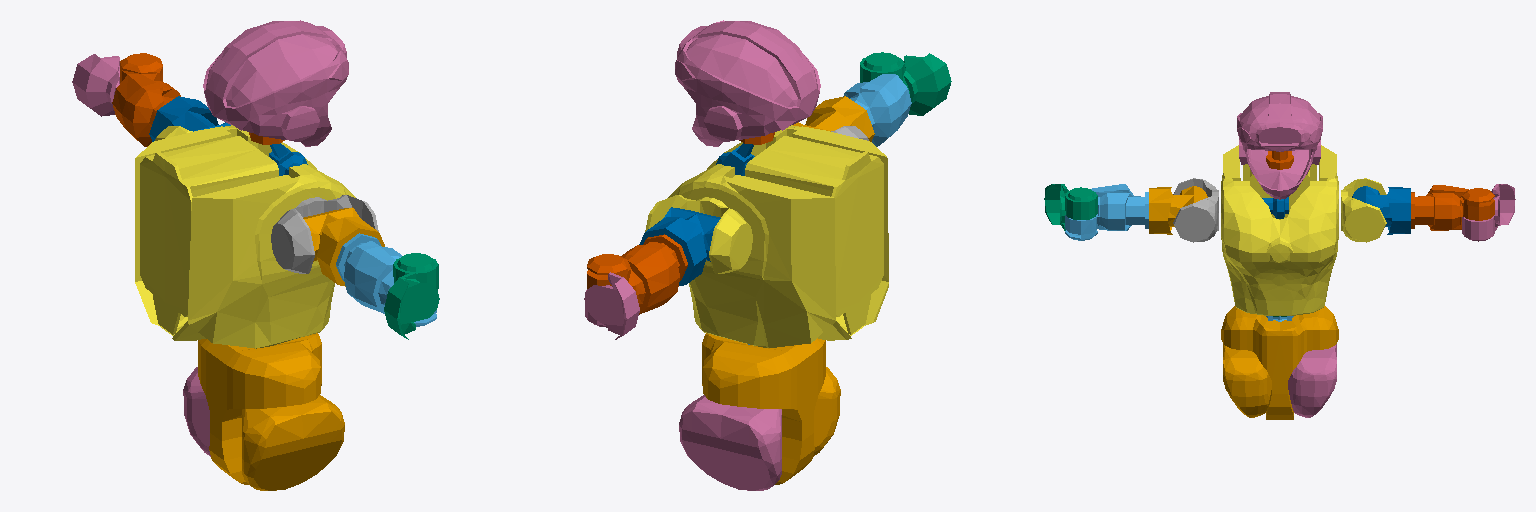
--- Render facts (derived) ---
The picture shows the robot from 3 angles, left to right: view 1: azimuth 30°, elevation 25°; view 2: azimuth 150°, elevation 25°; view 3: azimuth 270°, elevation 25°; orthographic projection.
Model valkyrie with 35 links and 34 joints (26 revolute, 8 fixed), rooted at pelvis, posed every joint at zero.
Links seen in each view (by area): view 1: torso, upperNeckPitchLink, pelvis, rightHipRollLink, leftShoulderYawLink, rightShoulderYawLink, rightElbowPitchLink, rightShoulderPitchLink, rightShoulderRollLink, leftElbowPitchLink, leftShoulderRollLink, leftHipRollLink (+1 smaller); view 2: torso, upperNeckPitchLink, pelvis, leftHipRollLink, leftShoulderYawLink, leftShoulderPitchLink, rightElbowPitchLink, rightShoulderYawLink, leftShoulderRollLink, leftElbowPitchLink, rightShoulderRollLink, rightHipRollLink (+1 smaller); view 3: torso, upperNeckPitchLink, pelvis, leftShoulderYawLink, rightShoulderYawLink, rightHipRollLink, leftHipRollLink, rightShoulderPitchLink, leftShoulderPitchLink, rightElbowPitchLink, rightShoulderRollLink, leftShoulderRollLink (+1 smaller).
Boxes of the visible links, <box> form: torso: <box>135,125,355,348</box>; upperNeckPitchLink: <box>203,20,348,146</box>; pelvis: <box>198,333,321,484</box>; rightHipRollLink: <box>242,395,344,490</box>; leftShoulderYawLink: <box>112,53,180,146</box>; rightShoulderYawLink: <box>336,233,436,326</box>; rightElbowPitchLink: <box>384,253,439,339</box>; rightShoulderPitchLink: <box>271,195,378,273</box>; rightShoulderRollLink: <box>303,207,384,286</box>; leftElbowPitchLink: <box>72,54,119,116</box>; leftShoulderRollLink: <box>149,96,230,141</box>; leftHipRollLink: <box>183,367,210,456</box>; torso: <box>668,125,888,347</box>; upperNeckPitchLink: <box>675,20,820,146</box>; pelvis: <box>702,333,825,484</box>; leftHipRollLink: <box>679,395,781,490</box>; leftShoulderYawLink: <box>587,234,687,314</box>; leftShoulderPitchLink: <box>645,195,752,273</box>; rightElbowPitchLink: <box>860,52,951,115</box>; rightShoulderYawLink: <box>843,74,911,146</box>; leftShoulderRollLink: <box>639,207,720,285</box>; leftElbowPitchLink: <box>584,272,639,339</box>; rightShoulderRollLink: <box>793,96,874,141</box>; rightHipRollLink: <box>813,367,840,456</box>; torso: <box>1221,145,1338,315</box>; upperNeckPitchLink: <box>1237,92,1322,199</box>; pelvis: <box>1221,306,1338,419</box>; leftShoulderYawLink: <box>1411,185,1494,230</box>; rightShoulderYawLink: <box>1065,184,1148,240</box>; rightHipRollLink: <box>1223,344,1271,417</box>; leftHipRollLink: <box>1288,344,1336,417</box>; rightShoulderPitchLink: <box>1173,178,1218,242</box>; leftShoulderPitchLink: <box>1341,178,1386,242</box>; rightElbowPitchLink: <box>1044,184,1097,230</box>; rightShoulderRollLink: <box>1149,186,1207,234</box>; leftShoulderRollLink: <box>1352,186,1410,234</box>.
Bounding box of the posed robot: 0.4375 × 1.38 × 1.04 m (x, y, z).
Meshes: 25 distinct files referenced, 17 mesh visuals loaded (17 Collada DAE); not drawn: 10 (reference not matched to a file when rendering).

robot.urdf — valkyrie:
<?xml version="1.0" ?>
<!-- =================================================================================== -->
<!-- |    This document was autogenerated by xacro from [local-path]/val_indigo/src/val_description/model/robots/valkyrie_B_no_hands.xacro | -->
<!-- |    EDITING THIS FILE BY HAND IS NOT RECOMMENDED                                 | -->
<!-- =================================================================================== -->
<robot name="valkyrie" xmlns:xacro="http://ros.org/wiki/xacro">
  <!--Yaw-->
  <!--pitch-->
  <!--roll-->
  <!--pitch-->
  <!--roll-->
  <!--Yaw-->
  <!--pitch-->
  <!--roll-->
  <!--pitch-->
  <!--roll-->
  <!--Yaw-->
  <!--pitch-->
  <!--roll-->
  <!--pitch-->
  <!--roll-->
  <!--Yaw-->
  <!--pitch-->
  <!--roll-->
  <!--pitch-->
  <!--roll-->
  <link name="pelvis">
    <inertial>
      <mass value="8.22"/>
      <origin rpy="0 0 0" xyz="-0.00532 -0.003512 -0.0036"/>
      <inertia ixx="0.11866378" ixy="-0.000143482" ixz="0.003271293" iyy="0.097963425" iyz="0.002159545" izz="0.083854638"/>
    </inertial>
    <visual>
      <geometry>
        <mesh filename="package://val_description/model/meshes/pelvis/pelvis.dae"/>
      </geometry>
      <origin rpy="0.0 0.0 0.0" xyz="0.0 0.0 0.0"/>
    </visual>
    <collision>
      <geometry>
        <mesh filename="package://val_description/model/meshes/pelvis/pelvis.dae"/>
      </geometry>
      <origin rpy="0 0 0" xyz="0 0 0"/>
    </collision>
  </link>
  <link name="torsoYawLink">
    <inertial>
      <mass value="0.5"/>
      <origin rpy="0 0 0" xyz="0.000000 0.000000 -0.010000"/>
      <inertia ixx="0.000608427" ixy="-1.172e-06" ixz="1.647e-06" iyy="0.000620328" iyz="-2.33e-07" izz="0.001078108"/>
    </inertial>
    <visual>
      <geometry>
        <mesh filename="package://val_description/model/meshes/torso/torsoyaw.dae"/>
      </geometry>
      <origin rpy="0.0 0.0 0.0" xyz="0.0 0.0 0.0"/>
    </visual>
    <collision>
      <geometry>
        <mesh filename="package://val_description/model/meshes/torso/torsoyaw.dae"/>
      </geometry>
      <origin rpy="0 0 0" xyz="0 0 0"/>
    </collision>
  </link>
  <link name="torsoPitchLink">
    <inertial>
      <mass value="0.1"/>
      <origin rpy="0 0 0" xyz="0.000000 0.000000  0.005000"/>
      <inertia ixx="3.032e-05" ixy="0.0" ixz="-1.145e-06" iyy="2.1274e-05" iyz="0.0" izz="2.8285e-05"/>
    </inertial>
    <visual>
      <geometry>
        <mesh filename="package://val_description/model/meshes/torso/torsopitch.dae"/>
      </geometry>
      <origin rpy="0.0 0.0 0.0" xyz="0.0 0.0 0.0"/>
    </visual>
    <collision>
      <geometry>
        <mesh filename="package://val_description/model/meshes/torso/torsopitch.dae"/>
      </geometry>
      <origin rpy="0 0 0" xyz="0 0 0"/>
    </collision>
  </link>
  <link name="torso">
    <inertial>
      <mass value="39.47"/>
      <origin rpy="0 0 0" xyz="-0.095548 -0.003337 0.243098"/>
      <inertia ixx="0.87326933" ixy="9.9563e-05" ixz="0.061345211" iyy="1.0108485" iyz="0.00181849" izz="0.77839801"/>
    </inertial>
    <visual>
      <geometry>
        <mesh filename="package://val_description/model/meshes/torso/torso.dae"/>
      </geometry>
      <origin rpy="0.0 0.0 0.0" xyz="0.0 0.0 0.0"/>
    </visual>
    <collision>
      <geometry>
        <mesh filename="package://val_description/model/meshes/torso/torso.dae"/>
      </geometry>
      <origin rpy="0 0 0" xyz="0 0 0"/>
    </collision>
  </link>
  <joint name="torsoYaw" type="revolute">
    <origin rpy="0.0 0.0 0.0" xyz="0.0 0.0 0.0"/>
    <axis xyz="0 0 1"/>
    <parent link="pelvis"/>
    <child link="torsoYawLink"/>
    <limit effort="190" lower="-1.329" upper="1.181" velocity="5.89"/>
    <controller_gains Kd="0.0" Ki="0.0" Kp="0.0"/>
    <dynamics damping="0.1" friction="0.0"/>
  </joint>
  <gazebo reference="torsoYaw">
    <provideFeedback>1</provideFeedback>
    <implicitSpringDamper>1</implicitSpringDamper>
  </gazebo>
  <joint name="torsoPitch" type="revolute">
    <origin rpy="0.0 0.0 0.0" xyz="0.04191 0.0 0.0"/>
    <axis xyz="0 1 0"/>
    <parent link="torsoYawLink"/>
    <child link="torsoPitchLink"/>
    <limit effort="150" lower="-0.13" upper="0.666" velocity="9"/>
    <controller_gains Kd="0.0" Ki="0.0" Kp="0.0"/>
    <dynamics damping="0.1" friction="0.0"/>
  </joint>
  <gazebo reference="torsoPitch">
    <provideFeedback>1</provideFeedback>
    <implicitSpringDamper>1</implicitSpringDamper>
  </gazebo>
  <joint name="torsoRoll" type="revolute">
    <origin rpy="0.0 0.0 0.0" xyz="0.0 0.0 0.0203"/>
    <axis xyz="1 0 0"/>
    <parent link="torsoPitchLink"/>
    <child link="torso"/>
    <limit effort="150" lower="-0.23" upper="0.255" velocity="9"/>
    <controller_gains Kd="0.0" Ki="0.0" Kp="0.0"/>
    <dynamics damping="0.1" friction="0.0"/>
  </joint>
  <gazebo reference="torsoRoll">
    <provideFeedback>1</provideFeedback>
    <implicitSpringDamper>1</implicitSpringDamper>
  </gazebo>
  <link name="lowerNeckPitchLink">
    <inertial>
      <mass value="1.05"/>
      <origin rpy="0 0 0" xyz="-0.020000 0.000000  0.040000"/>
      <inertia ixx="0.001470716" ixy="-0.000126021" ixz="0.000632521" iyy="0.001851919" iyz="0.000243012" izz="0.000832117"/>
    </inertial>
    <visual>
      <geometry>
        <mesh filename="package://val_description/model/meshes/head/neckj1.dae"/>
      </geometry>
      <origin rpy="0.0 0.0 0.0" xyz="0.0 0.0 0.0"/>
    </visual>
    <collision>
      <geometry>
        <mesh filename="package://val_description/model/meshes/head/neckj1.dae"/>
      </geometry>
      <origin rpy="0 0 0" xyz="0 0 0"/>
    </collision>
  </link>
  <link name="neckYawLink">
    <inertial>
      <mass value="1.4"/>
      <origin rpy="0 0 0" xyz="-0.030000  -0.010000 0.150000"/>
      <inertia ixx="0.001997698" ixy="-0.000180062" ixz="0.000723677" iyy="0.002919928" iyz="0.000246467" izz="0.002119751"/>
    </inertial>
    <visual>
      <geometry>
        <mesh filename="package://val_description/model/meshes/head/neckj2.dae"/>
      </geometry>
      <origin rpy="0.0 0.0 0.0" xyz="0.0 0.0 0.0"/>
    </visual>
    <collision>
      <geometry>
        <mesh filename="package://val_description/model/meshes/head/neckj2.dae"/>
      </geometry>
      <origin rpy="0 0 0" xyz="0 0 0"/>
    </collision>
  </link>
  <link name="upperNeckPitchLink">
    <inertial>
      <mass value="3.89"/>
      <origin rpy="0 0 0" xyz="0.100912 0.005783 0.034787"/>
      <inertia ixx="0.039847525" ixy="-0.000470418" ixz="-0.002829842" iyy="0.041418564" iyz="-0.000782564" izz="0.036841236"/>
    </inertial>
    <visual>
      <geometry>
        <mesh filename="package://val_description/model/meshes/head/head_multisense_no_visor.dae"/>
      </geometry>
      <origin rpy="0.0 0.0 0.0" xyz="0.0 0.0 0.0"/>
    </visual>
    <collision>
      <geometry>
        <mesh filename="package://val_description/model/meshes/head/head_multisense_no_visor.dae"/>
      </geometry>
      <origin rpy="0 0 0" xyz="0 0 0"/>
    </collision>
  </link>
  <joint name="lowerNeckPitch" type="revolute">
    <origin rpy="0.0 0.0 0.0" xyz="0.0203518 0.0 0.33845"/>
    <axis xyz="0 1 0"/>
    <parent link="torso"/>
    <child link="lowerNeckPitchLink"/>
    <limit effort="26" lower="0" upper="1.162" velocity="5"/>
    <controller_gains Kd="400" Ki="0.0" Kp="20000"/>
    <dynamics damping="0.1" friction="0.0"/>
  </joint>
  <gazebo reference="lowerNeckPitch">
    <provideFeedback>1</provideFeedback>
    <implicitSpringDamper>1</implicitSpringDamper>
  </gazebo>
  <joint name="neckYaw" type="revolute">
    <origin rpy="0.0 0.0 0.0" xyz="-0.051924 0.0 0.0"/>
    <axis xyz="0 0 1"/>
    <parent link="lowerNeckPitchLink"/>
    <child link="neckYawLink"/>
    <limit effort="26" lower="-1.04719755" upper="1.04719755" velocity="5"/>
    <controller_gains Kd="400" Ki="0.0" Kp="20000"/>
    <dynamics damping="0.1" friction="0.0"/>
  </joint>
  <gazebo reference="neckYaw">
    <provideFeedback>1</provideFeedback>
    <implicitSpringDamper>1</implicitSpringDamper>
  </gazebo>
  <joint name="upperNeckPitch" type="revolute">
    <origin rpy="0.0 0.0 0.0" xyz="-0.06 0 0.195997"/>
    <axis xyz="0 1 0"/>
    <parent link="neckYawLink"/>
    <child link="upperNeckPitchLink"/>
    <limit effort="26" lower="-0.872" upper="0.0" velocity="5"/>
    <controller_gains Kd="400" Ki="0.0" Kp="20000"/>
    <dynamics damping="0.1" friction="0.0"/>
  </joint>
  <gazebo reference="upperNeckPitch">
    <provideFeedback>1</provideFeedback>
    <implicitSpringDamper>1</implicitSpringDamper>
  </gazebo>
  <link name="rightShoulderPitchLink">
    <inertial>
      <mass value="2.65"/>
      <origin rpy="0 0 0" xyz="0.012 -0.251 0.000000"/>
      <inertia ixx="0.013718167" ixy="0.0" ixz="0.0" iyy="0.010502833" iyz="0.0" izz="0.014806433"/>
    </inertial>
    <visual>
      <geometry>
        <mesh filename="package://val_description/model/meshes/arms/aj1_right.dae"/>
      </geometry>
      <origin rpy="0.0 0.0 0.0" xyz="0.0 0.0 0.0"/>
    </visual>
    <collision>
      <geometry>
        <mesh filename="package://val_description/model/meshes/arms/aj1_right.dae"/>
      </geometry>
      <origin rpy="0 0 0" xyz="0 0 0"/>
    </collision>
  </link>
  <link name="rightShoulderRollLink">
    <inertial>
      <mass value="3.97"/>
      <origin rpy="0 0 0" xyz="0.008513 -0.02068 -0.001088"/>
      <inertia ixx="0.014598842" ixy="-0.00066764" ixz="3.629e-05" iyy="0.006452136" iyz="8.283e-05" izz="0.016848319"/>
    </inertial>
    <visual>
      <geometry>
        <mesh filename="package://val_description/model/meshes/arms/aj2_right.dae"/>
      </geometry>
      <origin rpy="0.0 0.0 0.0" xyz="0.0 0.0 0.0"/>
    </visual>
    <collision>
      <geometry>
        <mesh filename="package://val_description/model/meshes/arms/aj2_right.dae"/>
      </geometry>
      <origin rpy="0 0 0" xyz="0 0 0"/>
    </collision>
  </link>
  <link name="rightShoulderYawLink">
    <inertial>
      <mass value="3.085"/>
      <origin rpy="0 0 0" xyz="-0.004304 -0.209832 -0.007295"/>
      <inertia ixx="0.039355177" ixy="0.007827077" ixz="0.000753947" iyy="0.004905765" iyz="-0.002723873" izz="0.041879481"/>
    </inertial>
    <visual>
      <geometry>
        <mesh filename="package://val_description/model/meshes/arms/aj3_right.dae"/>
      </geometry>
      <origin rpy="0.0 0.0 0.0" xyz="0.0 0.0 0.0"/>
    </visual>
    <collision>
      <geometry>
        <mesh filename="package://val_description/model/meshes/arms/aj3_right.dae"/>
      </geometry>
      <origin rpy="0 0 0" xyz="0 0 0"/>
    </collision>
  </link>
  <link name="rightElbowPitchLink">
    <inertial>
      <mass value="1.83"/>
      <origin rpy="0 0 0" xyz="-0.020344 -0.014722 -0.0223"/>
      <inertia ixx="0.003314516" ixy="-0.000535099" ixz="-0.000728077" iyy="0.003505669" iyz="-0.000423865" izz="0.003011283"/>
    </inertial>
    <visual>
      <geometry>
        <mesh filename="package://val_description/model/meshes/arms/aj4_right.dae"/>
      </geometry>
      <origin rpy="0.0 0.0 0.0" xyz="0.0 0.0 0.0"/>
    </visual>
    <collision>
      <geometry>
        <mesh filename="package://val_description/model/meshes/arms/aj4_right.dae"/>
      </geometry>
      <origin rpy="0 0 0" xyz="0 0 0"/>
    </collision>
  </link>
  <joint name="rightShoulderPitch" type="revolute">
    <origin rpy="0.0 0.0 0.0" xyz="-0.0316 0.0 0.2984"/>
    <axis xyz="0 1 0"/>
    <parent link="torso"/>
    <child link="rightShoulderPitchLink"/>
    <limit effort="190" lower="-2.85" upper="2.0" velocity="5.89"/>
    <controller_gains Kd="0.0" Ki="0.0" Kp="0.0"/>
    <dynamics damping="0.1" friction="0.0"/>
  </joint>
  <gazebo reference="rightShoulderPitch">
    <provideFeedback>1</provideFeedback>
    <implicitSpringDamper>1</implicitSpringDamper>
  </gazebo>
  <joint name="rightShoulderRoll" type="revolute">
    <origin rpy="0.0 0.0 0.0" xyz="0.0 -0.2499 0.0"/>
    <axis xyz="1 0 0"/>
    <parent link="rightShoulderPitchLink"/>
    <child link="rightShoulderRollLink"/>
    <limit effort="190" lower="-1.266" upper="1.519" velocity="5.89"/>
    <controller_gains Kd="0.0" Ki="0.0" Kp="0.0"/>
    <dynamics damping="0.1" friction="0.0"/>
  </joint>
  <gazebo reference="rightShoulderRoll">
    <provideFeedback>1</provideFeedback>
    <implicitSpringDamper>1</implicitSpringDamper>
  </gazebo>
  <joint name="rightShoulderYaw" type="revolute">
    <origin rpy="0.0 0.0 0.0" xyz="0.0 0.0 0.0"/>
    <axis xyz="0 1 0"/>
    <parent link="rightShoulderRollLink"/>
    <child link="rightShoulderYawLink"/>
    <limit effort="65" lower="-3.1" upper="2.18" velocity="11.5"/>
    <controller_gains Kd="0.0" Ki="0.0" Kp="0.0"/>
    <dynamics damping="0.1" friction="0.0"/>
  </joint>
  <gazebo reference="rightShoulderYaw">
    <provideFeedback>1</provideFeedback>
    <implicitSpringDamper>1</implicitSpringDamper>
  </gazebo>
  <joint name="rightElbowPitch" type="revolute">
    <origin rpy="0.0 0.0 0.0" xyz="0.0254 -0.33 0.0"/>
    <axis xyz="0 0 1"/>
    <parent link="rightShoulderYawLink"/>
    <child link="rightElbowPitchLink"/>
    <limit effort="65" lower="-0.12" upper="2.174" velocity="11.5"/>
    <controller_gains Kd="0.0" Ki="0.0" Kp="0.0"/>
    <dynamics damping="0.1" friction="0.0"/>
  </joint>
  <gazebo reference="rightElbowPitch">
    <provideFeedback>1</provideFeedback>
    <implicitSpringDamper>1</implicitSpringDamper>
  </gazebo>
  <link name="leftShoulderPitchLink">
    <inertial>
      <mass value="2.65"/>
      <origin rpy="0 0 0" xyz="-0.012 0.251 0.000000"/>
      <inertia ixx="0.013718167" ixy="0.0" ixz="0.0" iyy="0.010502833" iyz="0.0" izz="0.014806433"/>
    </inertial>
    <visual>
      <geometry>
        <mesh filename="package://val_description/model/meshes/arms/aj1_left.dae"/>
      </geometry>
      <origin rpy="0.0 0.0 0.0" xyz="0.0 0.0 0.0"/>
    </visual>
    <collision>
      <geometry>
        <mesh filename="package://val_description/model/meshes/arms/aj1_left.dae"/>
      </geometry>
      <origin rpy="0 0 0" xyz="0 0 0"/>
    </collision>
  </link>
  <link name="leftShoulderRollLink">
    <inertial>
      <mass value="3.97"/>
      <origin rpy="0 0 0" xyz="-0.008513 0.02068 -0.001088"/>
      <inertia ixx="0.014598842" ixy="-0.00066764" ixz="-3.629e-05" iyy="0.006452136" iyz="-8.283e-05" izz="0.016848319"/>
    </inertial>
    <visual>
      <geometry>
        <mesh filename="package://val_description/model/meshes/arms/aj2_left.dae"/>
      </geometry>
      <origin rpy="0.0 0.0 0.0" xyz="0.0 0.0 0.0"/>
    </visual>
    <collision>
      <geometry>
        <mesh filename="package://val_description/model/meshes/arms/aj2_left.dae"/>
      </geometry>
      <origin rpy="0 0 0" xyz="0 0 0"/>
    </collision>
  </link>
  <link name="leftShoulderYawLink">
    <inertial>
      <mass value="3.085"/>
      <origin rpy="0 0 0" xyz="-0.004304 0.209832 0.007295"/>
      <inertia ixx="0.039355177" ixy="-0.007827077" ixz="-0.000753947" iyy="0.004905765" iyz="0.002723873" izz="0.041879481"/>
    </inertial>
    <visual>
      <geometry>
        <mesh filename="package://val_description/model/meshes/arms/aj3_left.dae"/>
      </geometry>
      <origin rpy="0.0 0.0 0.0" xyz="0.0 0.0 0.0"/>
    </visual>
    <collision>
      <geometry>
        <mesh filename="package://val_description/model/meshes/arms/aj3_left.dae"/>
      </geometry>
      <origin rpy="0 0 0" xyz="0 0 0"/>
    </collision>
  </link>
  <link name="leftElbowPitchLink">
    <inertial>
      <mass value="1.83"/>
      <origin rpy="0 0 0" xyz="-0.020344 0.014722 0.0223"/>
      <inertia ixx="0.003314516" ixy="0.000535099" ixz="0.000728077" iyy="0.003505669" iyz="-0.000423865" izz="0.003011283"/>
    </inertial>
    <visual>
      <geometry>
        <mesh filename="package://val_description/model/meshes/arms/aj4_left.dae"/>
      </geometry>
      <origin rpy="0.0 0.0 0.0" xyz="0.0 0.0 0.0"/>
    </visual>
    <collision>
      <geometry>
        <mesh filename="package://val_description/model/meshes/arms/aj4_left.dae"/>
      </geometry>
      <origin rpy="0 0 0" xyz="0 0 0"/>
    </collision>
  </link>
  <joint name="leftShoulderPitch" type="revolute">
    <origin rpy="0.0 0.0 0.0" xyz="-0.0316 0.0 0.2984"/>
    <axis xyz="0 1 0"/>
    <parent link="torso"/>
    <child link="leftShoulderPitchLink"/>
    <limit effort="190" lower="-2.85" upper="2.0" velocity="5.89"/>
    <controller_gains Kd="0.0" Ki="0.0" Kp="0.0"/>
    <dynamics damping="0.1" friction="0.0"/>
  </joint>
  <gazebo reference="leftShoulderPitch">
    <provideFeedback>1</provideFeedback>
    <implicitSpringDamper>1</implicitSpringDamper>
  </gazebo>
  <joint name="leftShoulderRoll" type="revolute">
    <origin rpy="0.0 0.0 0.0" xyz="0.0 0.2499 0.0"/>
    <axis xyz="1 0 0"/>
    <parent link="leftShoulderPitchLink"/>
    <child link="leftShoulderRollLink"/>
    <limit effort="190" lower="-1.519" upper="1.266" velocity="5.89"/>
    <controller_gains Kd="0.0" Ki="0.0" Kp="0.0"/>
    <dynamics damping="0.1" friction="0.0"/>
  </joint>
  <gazebo reference="leftShoulderRoll">
    <provideFeedback>1</provideFeedback>
    <implicitSpringDamper>1</implicitSpringDamper>
  </gazebo>
  <joint name="leftShoulderYaw" type="revolute">
    <origin rpy="0.0 0.0 0.0" xyz="0.0 0.0 0.0"/>
    <axis xyz="0 1 0"/>
    <parent link="leftShoulderRollLink"/>
    <child link="leftShoulderYawLink"/>
    <limit effort="65" lower="-3.1" upper="2.18" velocity="11.5"/>
    <controller_gains Kd="0.0" Ki="0.0" Kp="0.0"/>
    <dynamics damping="0.1" friction="0.0"/>
  </joint>
  <gazebo reference="leftShoulderYaw">
    <provideFeedback>1</provideFeedback>
    <implicitSpringDamper>1</implicitSpringDamper>
  </gazebo>
  <joint name="leftElbowPitch" type="revolute">
    <origin rpy="0.0 0.0 0.0" xyz="0.0254 0.33 0.0"/>
    <axis xyz="0 0 1"/>
    <parent link="leftShoulderYawLink"/>
    <child link="leftElbowPitchLink"/>
    <limit effort="65" lower="-2.174" upper="0.12" velocity="11.5"/>
    <controller_gains Kd="0.0" Ki="0.0" Kp="0.0"/>
    <dynamics damping="0.1" friction="0.0"/>
  </joint>
  <gazebo reference="leftElbowPitch">
    <provideFeedback>1</provideFeedback>
    <implicitSpringDamper>1</implicitSpringDamper>
  </gazebo>
  <link name="rightHipYawLink">
    <inertial>
      <mass value="2.39"/>
      <origin rpy="0 0 0" xyz="0.02176 0.00131 0.03867"/>
      <inertia ixx="0.017260978" ixy="0.0" ixz="0.0" iyy="0.014866198" iyz="0.0" izz="0.011238178"/>
    </inertial>
    <visual>
      <geometry>
        <mesh filename="package://val_description/model/meshes/legs/lj1_right.dae"/>
      </geometry>
      <origin rpy="0.0 0.0 0.0" xyz="0.0 0.0 0.0"/>
    </visual>
    <collision>
      <geometry>
        <mesh filename="package://val_description/model/meshes/legs/lj1_right.dae"/>
      </geometry>
      <origin rpy="0 0 0" xyz="0 0 0"/>
    </collision>
  </link>
  <link name="rightHipRollLink">
    <inertial>
      <mass value="3.665"/>
      <origin rpy="0 0 0" xyz="0.012959 -0.00755 -0.015950"/>
      <inertia ixx="0.005978962" ixy="0.000234823" ixz="0.000553962" iyy="0.009372646" iyz="-0.000778956" izz="0.008193117"/>
    </inertial>
    <visual>
      <geometry>
        <mesh filename="package://val_description/model/meshes/legs/lj2_right.dae"/>
      </geometry>
      <origin rpy="0.0 0.0 0.0" xyz="0.0 0.0 0.0"/>
    </visual>
    <collision>
      <geometry>
        <mesh filename="package://val_description/model/meshes/legs/lj2_right.dae"/>
      </geometry>
      <origin rpy="0 0 0" xyz="0 0 0"/>
    </collision>
  </link>
  <link name="rightHipPitchLink">
    <inertial>
      <mass value="10.2"/>
      <origin rpy="0 0 0" xyz="0.016691 -0.091397 -0.207875"/>
      <inertia ixx="0.24083413" ixy="-3.5915e-05" ixz="0.003699383" iyy="0.25689705" iyz="0.001333005" izz="0.023276352"/>
    </inertial>
    <visual>
      <geometry>
        <mesh filename="package://val_description/model/meshes/legs/lj3_right.dae"/>
      </geometry>
      <origin rpy="0.0 0.0 0.0" xyz="0.0 0.0 0.0"/>
    </visual>
    <collision>
      <geometry>
        <mesh filename="package://val_description/model/meshes/legs/lj3_right.dae"/>
      </geometry>
      <origin rpy="0 0 0" xyz="0 0 0"/>
    </collision>
  </link>
  <link name="rightKneePitchLink">
    <inertial>
      <mass value="6.2"/>
      <origin rpy="0 0 0" xyz="-0.022183  0.001703  -0.189418"/>
      <inertia ixx="0.086935683" ixy="9.929e-05" ixz="0.000573207" iyy="0.091584066" iyz="0.000313745" izz="0.014017272"/>
    </inertial>
    <visual>
      <geometry>
        <mesh filename="package://val_description/model/meshes/legs/lj4_right.dae"/>
      </geometry>
      <origin rpy="0.0 0.0 0.0" xyz="0.0 0.0 0.0"/>
    </visual>
    <collision>
      <geometry>
        <mesh filename="package://val_description/model/meshes/legs/lj4_right.dae"/>
      </geometry>
      <origin rpy="0 0 0" xyz="0 0 0"/>
    </collision>
  </link>
  <link name="rightAnklePitchLink">
    <inertial>
      <mass value="0.03"/>
      <origin rpy="0 0 0" xyz="0.0 0.0 0.0"/>
      <inertia ixx="4.377e-06" ixy="0.0" ixz="0.0" iyy="4.322e-06" iyz="0.0" izz="7.015e-06"/>
    </inertial>
    <visual>
      <geometry>
        <mesh filename="package://val_description/model/meshes/legs/lj5.dae"/>
      </geometry>
      <origin rpy="0.0 0.0 0.0" xyz="0.0 0.0 0.0"/>
    </visual>
    <collision>
      <geometry>
        <mesh filename="package://val_description/model/meshes/legs/lj5.dae"/>
      </geometry>
      <origin rpy="0 0 0" xyz="0 0 0"/>
    </collision>
  </link>
  <link name="rightFoot">
    <inertial>
      <mass value="2.27"/>
      <origin rpy="0 0 0" xyz="0.037702  0.005161  -0.047634"/>
      <inertia ixx="0.00623936" ixy="0.000217174" ixz="0.001340587" iyy="0.017786991" iyz="-0.000187749" izz="0.020774433"/>
    </inertial>
    <visual>
      <geometry>
        <mesh filename="package://val_description/model/meshes/legs/foot.dae"/>
      </geometry>
      <origin rpy="0 0 0" xyz="0 0 0"/>
    </visual>
    <collision>
      <geometry>
        <box size="0.27 0.16 0.064"/>
      </geometry>
      <origin rpy="0.0 0.0 0.0" xyz="0.066 0.0 -0.056"/>
    </collision>
  </link>
  <joint name="rightHipYaw" type="revolute">
    <origin rpy="0.0 0.0 0.0" xyz="0.0 -0.1016 -0.1853"/>
    <axis xyz="0 0 1"/>
    <parent link="pelvis"/>
    <child link="rightHipYawLink"/>
    <limit effort="190" lower="-1.1" upper="0.4141" velocity="5.89"/>
    <controller_gains Kd="0.0" Ki="0.0" Kp="0.0"/>
    <dynamics damping="0.1" friction="0.0"/>
  </joint>
  <gazebo reference="rightHipYaw">
    <provideFeedback>1</provideFeedback>
    <implicitSpringDamper>1</implicitSpringDamper>
  </gazebo>
  <joint name="rightHipRoll" type="revolute">
    <origin rpy="0.0 0.0 0.0" xyz="0.0 0.0 0.0"/>
    <axis xyz="1 0 0"/>
    <parent link="rightHipYawLink"/>
    <child link="rightHipRollLink"/>
    <limit effort="350" lower="-0.5515" upper="0.467" velocity="7"/>
    <controller_gains Kd="0.0" Ki="0.0" Kp="0.0"/>
    <dynamics damping="0.1" friction="0.0"/>
  </joint>
  <gazebo reference="rightHipRoll">
    <provideFeedback>1</provideFeedback>
    <implicitSpringDamper>1</implicitSpringDamper>
  </gazebo>
  <joint name="rightHipPitch" type="revolute">
    <origin rpy="0.0 0.0 0.0" xyz="0.0 0.0 -0.0609"/>
    <axis xyz="0 1 0"/>
    <parent link="rightHipRollLink"/>
    <child link="rightHipPitchLink"/>
    <limit effort="350" lower="-2.42" upper="1.619" velocity="6.11"/>
    <controller_gains Kd="0.0" Ki="0.0" Kp="0.0"/>
    <dynamics damping="0.1" friction="0.0"/>
  </joint>
  <gazebo reference="rightHipPitch">
    <provideFeedback>1</provideFeedback>
    <implicitSpringDamper>1</implicitSpringDamper>
  </gazebo>
  <joint name="rightKneePitch" type="revolute">
    <origin rpy="0.0 0.0 0.0" xyz="0.000112225 -0.0361046 -0.430959"/>
    <axis xyz="0 1 0"/>
    <parent link="rightHipPitchLink"/>
    <child link="rightKneePitchLink"/>
    <limit effort="350" lower="-0.083" upper="2.057" velocity="6.11"/>
    <controller_gains Kd="0.0" Ki="0.0" Kp="0.0"/>
    <dynamics damping="0.1" friction="0.0"/>
  </joint>
  <gazebo reference="rightKneePitch">
    <provideFeedback>1</provideFeedback>
    <implicitSpringDamper>1</implicitSpringDamper>
  </gazebo>
  <joint name="rightAnklePitch" type="revolute">
    <origin rpy="0.0 0.0 0.0" xyz="-0.0102381 0.0 -0.40627"/>
    <axis xyz="0 1 0"/>
    <parent link="rightKneePitchLink"/>
    <child link="rightAnklePitchLink"/>
    <limit effort="205" lower="-0.8644" upper="0.875" velocity="11"/>
    <controller_gains Kd="0.0" Ki="0.0" Kp="0.0"/>
    <dynamics damping="0.1" friction="0.0"/>
  </joint>
  <gazebo reference="rightAnklePitch">
    <provideFeedback>1</provideFeedback>
    <implicitSpringDamper>1</implicitSpringDamper>
  </gazebo>
  <joint name="rightAnkleRoll" type="revolute">
    <origin rpy="0.0 0.0 0.0" xyz="0.0 0.0 0.0"/>
    <axis xyz="1 0 0"/>
    <parent link="rightAnklePitchLink"/>
    <child link="rightFoot"/>
    <limit effort="205" lower="-0.349" upper="0.348" velocity="11"/>
    <controller_gains Kd="0.0" Ki="0.0" Kp="0.0"/>
    <dynamics damping="0.3" friction="0.0"/>
  </joint>
  <gazebo reference="rightAnkleRoll">
    <provideFeedback>1</provideFeedback>
    <implicitSpringDamper>1</implicitSpringDamper>
  </gazebo>
  <link name="leftHipYawLink">
    <inertial>
      <mass value="2.39"/>
      <origin rpy="0 0 0" xyz="0.02176 -0.00131 0.03867"/>
      <inertia ixx="0.017260978" ixy="0.0" ixz="0.0" iyy="0.014866198" iyz="0.0" izz="0.011238178"/>
    </inertial>
    <visual>
      <geometry>
        <mesh filename="package://val_description/model/meshes/legs/lj1_left.dae"/>
      </geometry>
      <origin rpy="0.0 0.0 0.0" xyz="0.0 0.0 0.0"/>
    </visual>
    <collision>
      <geometry>
        <mesh filename="package://val_description/model/meshes/legs/lj1_left.dae"/>
      </geometry>
      <origin rpy="0 0 0" xyz="0 0 0"/>
    </collision>
  </link>
  <link name="leftHipRollLink">
    <inertial>
      <mass value="3.665"/>
      <origin rpy="0 0 0" xyz="0.012959 0.00755 -0.015950"/>
      <inertia ixx="0.005978962" ixy="-0.000234823" ixz="0.000553962" iyy="0.009372646" iyz="0.000778956" izz="0.008193117"/>
    </inertial>
    <visual>
      <geometry>
        <mesh filename="package://val_description/model/meshes/legs/lj2_left.dae"/>
      </geometry>
      <origin rpy="0.0 0.0 0.0" xyz="0.0 0.0 0.0"/>
    </visual>
    <collision>
      <geometry>
        <mesh filename="package://val_description/model/meshes/legs/lj2_left.dae"/>
      </geometry>
      <origin rpy="0 0 0" xyz="0 0 0"/>
    </collision>
  </link>
  <link name="leftHipPitchLink">
    <inertial>
      <mass value="10.2"/>
      <origin rpy="0 0 0" xyz="0.016691 0.091397 -0.207875"/>
      <inertia ixx="0.24083413" ixy="3.5915e-05" ixz="0.003699383" iyy="0.25689705" iyz="-0.001333005" izz="0.023276352"/>
    </inertial>
    <visual>
      <geometry>
        <mesh filename="package://val_description/model/meshes/legs/lj3_left.dae"/>
      </geometry>
      <origin rpy="0.0 0.0 0.0" xyz="0.0 0.0 0.0"/>
    </visual>
    <collision>
      <geometry>
        <mesh filename="package://val_description/model/meshes/legs/lj3_left.dae"/>
      </geometry>
      <origin rpy="0 0 0" xyz="0 0 0"/>
    </collision>
  </link>
  <link name="leftKneePitchLink">
    <inertial>
      <mass value="6.2"/>
      <origin rpy="0 0 0" xyz="-0.022183  0.001703  -0.189418"/>
      <inertia ixx="0.086935683" ixy="9.929e-05" ixz="0.000573207" iyy="0.091584066" iyz="0.000313745" izz="0.014017272"/>
    </inertial>
    <visual>
      <geometry>
        <mesh filename="package://val_description/model/meshes/legs/lj4_left.dae"/>
      </geometry>
      <origin rpy="0.0 0.0 0.0" xyz="0.0 0.0 0.0"/>
    </visual>
    <collision>
      <geometry>
        <mesh filename="package://val_description/model/meshes/legs/lj4_left.dae"/>
      </geometry>
      <origin rpy="0 0 0" xyz="0 0 0"/>
    </collision>
  </link>
  <link name="leftAnklePitchLink">
    <inertial>
      <mass value="0.03"/>
      <origin rpy="0 0 0" xyz="0.0 0.0 0.0"/>
      <inertia ixx="4.377e-06" ixy="0.0" ixz="0.0" iyy="4.322e-06" iyz="0.0" izz="7.015e-06"/>
    </inertial>
    <visual>
      <geometry>
        <mesh filename="package://val_description/model/meshes/legs/lj5.dae"/>
      </geometry>
      <origin rpy="0.0 0.0 0.0" xyz="0.0 0.0 0.0"/>
    </visual>
    <collision>
      <geometry>
        <mesh filename="package://val_description/model/meshes/legs/lj5.dae"/>
      </geometry>
      <origin rpy="0 0 0" xyz="0 0 0"/>
    </collision>
  </link>
  <link name="leftFoot">
    <inertial>
      <mass value="2.27"/>
      <origin rpy="0 0 0" xyz="0.037702  0.005161  -0.047634"/>
      <inertia ixx="0.00623936" ixy="0.000217174" ixz="0.001340587" iyy="0.017786991" iyz="-0.000187749" izz="0.020774433"/>
    </inertial>
    <visual>
      <geometry>
        <mesh filename="package://val_description/model/meshes/legs/foot.dae"/>
      </geometry>
      <origin rpy="0 0 0" xyz="0 0 0"/>
    </visual>
    <collision>
      <geometry>
        <box size="0.27 0.16 0.064"/>
      </geometry>
      <origin rpy="0.0 0.0 0.0" xyz="0.066 0.0 -0.056"/>
    </collision>
  </link>
  <joint name="leftHipYaw" type="revolute">
    <origin rpy="0.0 0.0 0.0" xyz="0.0 0.1016 -0.1853"/>
    <axis xyz="0 0 1"/>
    <parent link="pelvis"/>
    <child link="leftHipYawLink"/>
    <limit effort="190" lower="-0.4141" upper="1.1" velocity="5.89"/>
    <controller_gains Kd="0.0" Ki="0.0" Kp="0.0"/>
    <dynamics damping="0.1" friction="0.0"/>
  </joint>
  <gazebo reference="leftHipYaw">
    <provideFeedback>1</provideFeedback>
    <implicitSpringDamper>1</implicitSpringDamper>
  </gazebo>
  <joint name="leftHipRoll" type="revolute">
    <origin rpy="0.0 0.0 0.0" xyz="0.0 0.0 0.0"/>
    <axis xyz="1 0 0"/>
    <parent link="leftHipYawLink"/>
    <child link="leftHipRollLink"/>
    <limit effort="350" lower="-0.467" upper="0.5515" velocity="7"/>
    <controller_gains Kd="0.0" Ki="0.0" Kp="0.0"/>
    <dynamics damping="0.1" friction="0.0"/>
  </joint>
  <gazebo reference="leftHipRoll">
    <provideFeedback>1</provideFeedback>
    <implicitSpringDamper>1</implicitSpringDamper>
  </gazebo>
  <joint name="leftHipPitch" type="revolute">
    <origin rpy="0.0 0.0 0.0" xyz="0.0 0.0 -0.0609"/>
    <axis xyz="0 1 0"/>
    <parent link="leftHipRollLink"/>
    <child link="leftHipPitchLink"/>
    <limit effort="350" lower="-2.42" upper="1.619" velocity="6.11"/>
    <controller_gains Kd="0.0" Ki="0.0" Kp="0.0"/>
    <dynamics damping="0.1" friction="0.0"/>
  </joint>
  <gazebo reference="leftHipPitch">
    <provideFeedback>1</provideFeedback>
    <implicitSpringDamper>1</implicitSpringDamper>
  </gazebo>
  <joint name="leftKneePitch" type="revolute">
    <origin rpy="0.0 0.0 0.0" xyz="0.000112225 0.0361046 -0.430959"/>
    <axis xyz="0 1 0"/>
    <parent link="leftHipPitchLink"/>
    <child link="leftKneePitchLink"/>
    <limit effort="350" lower="-0.083" upper="2.057" velocity="6.11"/>
    <controller_gains Kd="0.0" Ki="0.0" Kp="0.0"/>
    <dynamics damping="0.1" friction="0.0"/>
  </joint>
  <gazebo reference="leftKneePitch">
    <provideFeedback>1</provideFeedback>
    <implicitSpringDamper>1</implicitSpringDamper>
  </gazebo>
  <joint name="leftAnklePitch" type="revolute">
    <origin rpy="0.0 0.0 0.0" xyz="-0.0102381 0.0 -0.40627"/>
    <axis xyz="0 1 0"/>
    <parent link="leftKneePitchLink"/>
    <child link="leftAnklePitchLink"/>
    <limit effort="205" lower="-0.8644" upper="0.875" velocity="11"/>
    <controller_gains Kd="0.0" Ki="0.0" Kp="0.0"/>
    <dynamics damping="0.1" friction="0.0"/>
  </joint>
  <gazebo reference="leftAnklePitch">
    <provideFeedback>1</provideFeedback>
    <implicitSpringDamper>1</implicitSpringDamper>
  </gazebo>
  <joint name="leftAnkleRoll" type="revolute">
    <origin rpy="0.0 0.0 0.0" xyz="0.0 0.0 0.0"/>
    <axis xyz="1 0 0"/>
    <parent link="leftAnklePitchLink"/>
    <child link="leftFoot"/>
    <limit effort="205" lower="-0.349" upper="0.348" velocity="11"/>
    <controller_gains Kd="0.0" Ki="0.0" Kp="0.0"/>
    <dynamics damping="0.3" friction="0.0"/>
  </joint>
  <gazebo reference="leftAnkleRoll">
    <provideFeedback>1</provideFeedback>
    <implicitSpringDamper>1</implicitSpringDamper>
  </gazebo>
  <link name="leftTorsoImu_Frame">
    <!-- Virtual Link -->
    <inertial>
      <mass value="1e-07"/>
      <origin rpy="0 0 0" xyz="0 0 0"/>
      <inertia ixx="3.33333333333e-22" ixy="0.0" ixz="0.0" iyy="3.33333333333e-22" iyz="0.0" izz="5e-22"/>
    </inertial>
  </link>
  <joint name="leftTorsoImu_Offset" type="fixed">
    <origin rpy="-1.5707 0.0 0.0" xyz="-0.0627634 0.134239 0.3630676"/>
    <axis xyz="0 0 1"/>
    <parent link="torso"/>
    <child link="leftTorsoImu_Frame"/>
  </joint>
  <gazebo reference="leftTorsoImu_Offset">
    <implicitSpringDamper>1</implicitSpringDamper>
  </gazebo>
  <gazebo>
    <plugin filename="libgazebo_ros_imu.so" name="imu_plugin_ros">
      <alwaysOn>true</alwaysOn>
      <bodyName>leftTorsoImu_Frame</bodyName>
      <topicName>leftTorsoImu/imu</topicName>
      <serviceName>leftTorsoImu/imu_service</serviceName>
      <gaussianNoise>0.0</gaussianNoise>
      <updateRate>1000.0</updateRate>
    </plugin>
  </gazebo>
  <gazebo reference="leftTorsoImu_Frame">
    <sensor name="leftTorsoImu" type="imu">
      <always_on>true</always_on>
      <pose>0 0 0 0 0 0 </pose>
      <node name="/sensors/leftTorsoIMU"/>
      <api name="val_imu_3dm_gx4_15_interface/Imu3dmGx415Interface"/>
      <port name="/dev/serial/by-id/usb-Lord_Microstrain_Lord_Inertial_Sensor_0000__6233.47100-if00"/>
      <imu>
        <noise>
          <type>gaussian</type>
          <rate>
            <mean>0</mean>
            <stddev>0.0002</stddev>
            <bias_mean>7.5e-06</bias_mean>
            <bias_stddev>8e-07</bias_stddev>
          </rate>
          <accel>
            <mean>0</mean>
            <stddev>0.017</stddev>
            <bias_mean>0.1</bias_mean>
            <bias_stddev>0.001</bias_stddev>
          </accel>
        </noise>
      </imu>
    </sensor>
  </gazebo>
  <link name="rightHazardCamera_Frame">
    <!-- Virtual Link -->
    <inertial>
      <mass value="1e-07"/>
      <origin rpy="0 0 0" xyz="0 0 0"/>
      <inertia ixx="3.33333333333e-22" ixy="0.0" ixz="0.0" iyy="3.33333333333e-22" iyz="0.0" izz="5e-22"/>
    </inertial>
  </link>
  <gazebo reference="rightHazardCamera_Frame">
    <sensor name="rightHazardCamera" type="camera">
      <camera>
        <image>
          <width>1280</width>
          <height>1024</height>
          <format>R8G8B8</format>
        </image>
        <horizontal_fov>1.378</horizontal_fov>
        <clip>
          <near>0.1</near>
          <far>100</far>
        </clip>
      </camera>
      <update_rate>60</update_rate>
    </sensor>
  </gazebo>
  <joint name="rightHazardCamera_Offset" type="fixed">
    <origin rpy="1.57 0.0 1.57" xyz="0.0345 -0.0406 0.1135"/>
    <axis xyz="0 0 1"/>
    <parent link="torso"/>
    <child link="rightHazardCamera_Frame"/>
  </joint>
  <gazebo reference="rightHazardCamera_Offset">
    <implicitSpringDamper>1</implicitSpringDamper>
  </gazebo>
  <link name="leftHazardCamera_Frame">
    <!-- Virtual Link -->
    <inertial>
      <mass value="1e-07"/>
      <origin rpy="0 0 0" xyz="0 0 0"/>
      <inertia ixx="3.33333333333e-22" ixy="0.0" ixz="0.0" iyy="3.33333333333e-22" iyz="0.0" izz="5e-22"/>
    </inertial>
  </link>
  <gazebo reference="leftHazardCamera_Frame">
    <sensor name="leftHazardCamera" type="camera">
      <camera>
        <image>
          <width>1280</width>
          <height>1024</height>
          <format>R8G8B8</format>
        </image>
        <horizontal_fov>1.378</horizontal_fov>
        <clip>
          <near>0.1</near>
          <far>100</far>
        </clip>
      </camera>
      <update_rate>60</update_rate>
    </sensor>
  </gazebo>
  <joint name="leftHazardCamera_Offset" type="fixed">
    <origin rpy="1.57 0.0 1.57" xyz="0.0345 0.0406 0.1135"/>
    <axis xyz="0 0 1"/>
    <parent link="torso"/>
    <child link="leftHazardCamera_Frame"/>
  </joint>
  <gazebo reference="leftHazardCamera_Offset">
    <implicitSpringDamper>1</implicitSpringDamper>
  </gazebo>
  <link name="leftCOP_Frame">
    <inertial>
      <mass value="0.1"/>
      <origin rpy="0 0 0" xyz="0 0 0"/>
      <inertia ixx="8.33333333333e-05" ixy="0.0" ixz="0.0" iyy="8.33333333333e-05" iyz="0.0" izz="0.000125"/>
    </inertial>
  </link>
  <joint name="leftCOP_Offset" type="fixed">
    <origin rpy="0.0 0.0 0.0" xyz="0.0189 0.0 -0.0783"/>
    <axis xyz="0 0 1"/>
    <parent link="leftFoot"/>
    <child link="leftCOP_Frame"/>
  </joint>
  <gazebo reference="leftCOP_Offset">
    <implicitSpringDamper>1</implicitSpringDamper>
  </gazebo>
  <gazebo reference="leftAnkleRoll">
    <sensor name="leftFootSixAxis" type="force_torque">
      <pose>0.0215646 0.0 -0.051054 3.14 0.0 0.0</pose>
      <sensor_number id="FT17218"/>
      <node id="/left_leg/ankle/left_actuator"/>
      <api name="TurbodriverForceTorqueSensor"/>
      <always_on>true</always_on>
      <update_rate>1000</update_rate>
      <force_torque>
        <frame>sensor</frame>
      </force_torque>
    </sensor>
  </gazebo>
  <link name="rightCOP_Frame">
    <inertial>
      <mass value="0.1"/>
      <origin rpy="0 0 0" xyz="0 0 0"/>
      <inertia ixx="8.33333333333e-05" ixy="0.0" ixz="0.0" iyy="8.33333333333e-05" iyz="0.0" izz="0.000125"/>
    </inertial>
  </link>
  <joint name="rightCOP_Offset" type="fixed">
    <origin rpy="0.0 0.0 0.0" xyz="0.0189 0.0 -0.0783"/>
    <axis xyz="0 0 1"/>
    <parent link="rightFoot"/>
    <child link="rightCOP_Frame"/>
  </joint>
  <gazebo reference="rightCOP_Offset">
    <implicitSpringDamper>1</implicitSpringDamper>
  </gazebo>
  <gazebo reference="rightAnkleRoll">
    <sensor name="rightFootSixAxis" type="force_torque">
      <pose>0.0215646 0.0 -0.051054 3.14 0.0 0.0</pose>
      <sensor_number id="FT14018"/>
      <node id="/right_leg/ankle/left_actuator"/>
      <api name="TurbodriverForceTorqueSensor"/>
      <always_on>true</always_on>
      <update_rate>1000</update_rate>
      <force_torque>
        <frame>sensor</frame>
      </force_torque>
    </sensor>
  </gazebo>
  <link name="multisense_root_link">
    <!-- Virtual Link -->
    <inertial>
      <mass value="1e-07"/>
      <origin rpy="0 0 0" xyz="0 0 0"/>
      <inertia ixx="3.33333333333e-22" ixy="0.0" ixz="0.0" iyy="3.33333333333e-22" iyz="0.0" izz="5e-22"/>
    </inertial>
  </link>
  <joint name="multisense_head_root_joint" type="fixed">
    <origin rpy="-3.14159 0.130899694 0.0" xyz="0.183585961 0.0 0.075353826"/>
    <axis xyz="0 0 1"/>
    <parent link="upperNeckPitchLink"/>
    <child link="multisense_root_link"/>
  </joint>
  <gazebo reference="multisense_head_root_joint">
    <implicitSpringDamper>1</implicitSpringDamper>
  </gazebo>
  <link name="pelvisRearImu_Frame">
    <!-- Virtual Link -->
    <inertial>
      <mass value="1e-07"/>
      <origin rpy="0 0 0" xyz="0 0 0"/>
      <inertia ixx="3.33333333333e-22" ixy="0.0" ixz="0.0" iyy="3.33333333333e-22" iyz="0.0" izz="5e-22"/>
    </inertial>
  </link>
  <joint name="pelvisRearImu_Offset" type="fixed">
    <origin rpy="-3.14159 0.476467 -3.14159" xyz="-0.075844901 0.0 -0.111056426"/>
    <axis xyz="0 0 1"/>
    <parent link="pelvis"/>
    <child link="pelvisRearImu_Frame"/>
  </joint>
  <gazebo reference="pelvisRearImu_Offset">
    <implicitSpringDamper>1</implicitSpringDamper>
  </gazebo>
  <gazebo>
    <plugin filename="libgazebo_ros_imu.so" name="imu_plugin_ros">
      <alwaysOn>true</alwaysOn>
      <bodyName>pelvisRearImu_Frame</bodyName>
      <topicName>pelvisRearImu/imu</topicName>
      <serviceName>pelvisRearImu/imu_service</serviceName>
      <gaussianNoise>0.0</gaussianNoise>
      <updateRate>1000.0</updateRate>
    </plugin>
  </gazebo>
  <gazebo reference="pelvisRearImu_Frame">
    <sensor name="pelvisRearImu" type="imu">
      <always_on>true</always_on>
      <pose>0 0 0 0 0 0 </pose>
      <node name="/sensors/rearPelvisIMU"/>
      <api name="val_imu_3dm_gx4_15_interface/Imu3dmGx415Interface"/>
      <port name="/dev/serial/by-id/usb-FTDI_USB-RS232_Cable_FTY5H9NH-if00-port0"/>
      <imu>
        <noise>
          <type>gaussian</type>
          <rate>
            <mean>0</mean>
            <stddev>0.0002</stddev>
            <bias_mean>7.5e-06</bias_mean>
            <bias_stddev>8e-07</bias_stddev>
          </rate>
          <accel>
            <mean>0</mean>
            <stddev>0.017</stddev>
            <bias_mean>0.1</bias_mean>
            <bias_stddev>0.001</bias_stddev>
          </accel>
        </noise>
      </imu>
    </sensor>
  </gazebo>
  <link name="pelvisMiddleImu_Frame">
    <!-- Virtual Link -->
    <inertial>
      <mass value="1e-07"/>
      <origin rpy="0 0 0" xyz="0 0 0"/>
      <inertia ixx="3.33333333333e-22" ixy="0.0" ixz="0.0" iyy="3.33333333333e-22" iyz="0.0" izz="5e-22"/>
    </inertial>
  </link>
  <joint name="pelvisMiddleImu_Offset" type="fixed">
    <origin rpy="3.14159 0.0 0.0" xyz="0.0 0.0 -0.10819638"/>
    <axis xyz="0 0 1"/>
    <parent link="pelvis"/>
    <child link="pelvisMiddleImu_Frame"/>
  </joint>
  <gazebo reference="pelvisMiddleImu_Offset">
    <implicitSpringDamper>1</implicitSpringDamper>
  </gazebo>
  <gazebo>
    <plugin filename="libgazebo_ros_imu.so" name="imu_plugin_ros">
      <alwaysOn>true</alwaysOn>
      <bodyName>pelvisMiddleImu_Frame</bodyName>
      <topicName>pelvisMiddleImu/imu</topicName>
      <serviceName>pelvisMiddleImu/imu_service</serviceName>
      <gaussianNoise>0.0</gaussianNoise>
      <updateRate>1000.0</updateRate>
    </plugin>
  </gazebo>
  <gazebo reference="pelvisMiddleImu_Frame">
    <sensor name="pelvisMiddleImu" type="imu">
      <always_on>true</always_on>
      <pose>0 0 0 0 0 0 </pose>
      <imu>
        <noise>
          <type>gaussian</type>
          <rate>
            <mean>0</mean>
            <stddev>0.0002</stddev>
            <bias_mean>7.5e-06</bias_mean>
            <bias_stddev>8e-07</bias_stddev>
          </rate>
          <accel>
            <mean>0</mean>
            <stddev>0.017</stddev>
            <bias_mean>0.1</bias_mean>
            <bias_stddev>0.001</bias_stddev>
          </accel>
        </noise>
      </imu>
    </sensor>
  </gazebo>
  <transmission name="torsoYawTransmission">
    <type>transmission_interface/SimpleTransmission</type>
    <joint name="torsoYaw">
      <hardwareInterface>EffortJointInterface</hardwareInterface>
    </joint>
    <actuator name="torsoYaw">
      <node name="/pelvis/waist"/>
      <mechanicalReduction>1</mechanicalReduction>
      <api name="robot_hardware_interface/TurbodriverAPI"/>
    </actuator>
  </transmission>
  <transmission name="waistTransmission">
    <type>robot_transmission_interface/TorsoPushrodTransmission</type>
    <joint name="torsoPitch">
      <role>pitch</role>
      <hardwareInterface>EffortJointInterface</hardwareInterface>
    </joint>
    <joint name="torsoRoll">
      <role>roll</role>
      <hardwareInterface>EffortJointInterface</hardwareInterface>
    </joint>
    <actuator name="waistRightActuator">
      <node name="/trunk/right_actuator"/>
      <role>right</role>
      <mechanicalReduction>1</mechanicalReduction>
      <api name="robot_hardware_interface/TurbodriverAPI_linear_futek"/>
    </actuator>
    <actuator name="waistLeftActuator">
      <node name="/trunk/left_actuator"/>
      <role>left</role>
      <mechanicalReduction>1</mechanicalReduction>
      <api name="robot_hardware_interface/TurbodriverAPI_linear_futek"/>
    </actuator>
  </transmission>
  <transmission name="leftHipYawTransmission">
    <type>transmission_interface/SimpleTransmission</type>
    <joint name="leftHipYaw">
      <hardwareInterface>EffortJointInterface</hardwareInterface>
    </joint>
    <actuator name="leftHipYaw">
      <node name="/pelvis/left_leg_j1"/>
      <mechanicalReduction>1</mechanicalReduction>
      <api name="robot_hardware_interface/TurbodriverAPI"/>
    </actuator>
  </transmission>
  <transmission name="leftHipRollTransmission">
    <type>transmission_interface/SimpleTransmission</type>
    <joint name="leftHipRoll">
      <hardwareInterface>EffortJointInterface</hardwareInterface>
    </joint>
    <actuator name="leftHipRoll">
      <node name="/left_leg/j2"/>
      <mechanicalReduction>1</mechanicalReduction>
      <api name="robot_hardware_interface/TurbodriverAPI"/>
    </actuator>
  </transmission>
  <transmission name="leftHipPitchTransmission">
    <type>transmission_interface/SimpleTransmission</type>
    <joint name="leftHipPitch">
      <hardwareInterface>EffortJointInterface</hardwareInterface>
    </joint>
    <actuator name="leftHipPitch">
      <node name="/left_leg/j3"/>
      <mechanicalReduction>1</mechanicalReduction>
      <api name="robot_hardware_interface/TurbodriverAPI"/>
    </actuator>
  </transmission>
  <transmission name="leftKneePitchTransmission">
    <type>transmission_interface/SimpleTransmission</type>
    <joint name="leftKneePitch">
      <hardwareInterface>EffortJointInterface</hardwareInterface>
    </joint>
    <actuator name="leftKneePitch">
      <node name="/left_leg/j4"/>
      <mechanicalReduction>1</mechanicalReduction>
      <api name="robot_hardware_interface/TurbodriverAPI"/>
    </actuator>
  </transmission>
  <transmission name="leftAnkleTransmission">
    <type>robot_transmission_interface/AnklePushrodTransmission</type>
    <joint name="leftAnklePitch">
      <role>pitch</role>
      <hardwareInterface>EffortJointInterface</hardwareInterface>
    </joint>
    <joint name="leftAnkleRoll">
      <role>roll</role>
      <hardwareInterface>EffortJointInterface</hardwareInterface>
    </joint>
    <actuator name="leftAnkleRightActuator">
      <node name="/left_leg/ankle/right_actuator"/>
      <role>right</role>
      <mechanicalReduction>1</mechanicalReduction>
      <api name="robot_hardware_interface/TurbodriverAPI_linear_futek"/>
    </actuator>
    <actuator name="leftAnkleLeftActuator">
      <node name="/left_leg/ankle/left_actuator"/>
      <role>left</role>
      <mechanicalReduction>1</mechanicalReduction>
      <api name="robot_hardware_interface/TurbodriverAPI_linear_futek"/>
    </actuator>
  </transmission>
  <transmission name="rightHipYawTransmission">
    <type>transmission_interface/SimpleTransmission</type>
    <joint name="rightHipYaw">
      <hardwareInterface>EffortJointInterface</hardwareInterface>
    </joint>
    <actuator name="rightHipYaw">
      <node name="/pelvis/right_leg_j1"/>
      <mechanicalReduction>1</mechanicalReduction>
      <api name="robot_hardware_interface/TurbodriverAPI"/>
    </actuator>
  </transmission>
  <transmission name="rightHipRollTransmission">
    <type>transmission_interface/SimpleTransmission</type>
    <joint name="rightHipRoll">
      <hardwareInterface>EffortJointInterface</hardwareInterface>
    </joint>
    <actuator name="rightHipRoll">
      <node name="/right_leg/j2"/>
      <mechanicalReduction>1</mechanicalReduction>
      <api name="robot_hardware_interface/TurbodriverAPI"/>
    </actuator>
  </transmission>
  <transmission name="rightHipPitchTransmission">
    <type>transmission_interface/SimpleTransmission</type>
    <joint name="rightHipPitch">
      <hardwareInterface>EffortJointInterface</hardwareInterface>
    </joint>
    <actuator name="rightHipPitch">
      <node name="/right_leg/j3"/>
      <mechanicalReduction>1</mechanicalReduction>
      <api name="robot_hardware_interface/TurbodriverAPI"/>
    </actuator>
  </transmission>
  <transmission name="rightKneePitchTransmission">
    <type>transmission_interface/SimpleTransmission</type>
    <joint name="rightKneePitch">
      <hardwareInterface>EffortJointInterface</hardwareInterface>
    </joint>
    <actuator name="rightKneePitch">
      <node name="/right_leg/j4"/>
      <mechanicalReduction>1</mechanicalReduction>
      <api name="robot_hardware_interface/TurbodriverAPI"/>
    </actuator>
  </transmission>
  <transmission name="rightAnkleTransmission">
    <type>robot_transmission_interface/AnklePushrodTransmission</type>
    <joint name="rightAnklePitch">
      <role>pitch</role>
      <hardwareInterface>EffortJointInterface</hardwareInterface>
    </joint>
    <joint name="rightAnkleRoll">
      <role>roll</role>
      <hardwareInterface>EffortJointInterface</hardwareInterface>
    </joint>
    <actuator name="rightAnkleRightActuator">
      <node name="/right_leg/ankle/right_actuator"/>
      <role>right</role>
      <mechanicalReduction>1</mechanicalReduction>
      <api name="robot_hardware_interface/TurbodriverAPI_linear_futek"/>
    </actuator>
    <actuator name="rightAnkleLeftActuator">
      <node name="/right_leg/ankle/left_actuator"/>
      <role>left</role>
      <mechanicalReduction>1</mechanicalReduction>
      <api name="robot_hardware_interface/TurbodriverAPI_linear_futek"/>
    </actuator>
  </transmission>
  <transmission name="leftShoulderPitchTransmission">
    <type>transmission_interface/SimpleTransmission</type>
    <joint name="leftShoulderPitch">
      <hardwareInterface>EffortJointInterface</hardwareInterface>
    </joint>
    <actuator name="leftShoulderPitch">
      <node name="/trunk/left_arm_j1"/>
      <mechanicalReduction>1</mechanicalReduction>
      <api name="robot_hardware_interface/TurbodriverAPI"/>
    </actuator>
  </transmission>
  <transmission name="leftShoulderRollTransmission">
    <type>transmission_interface/SimpleTransmission</type>
    <joint name="leftShoulderRoll">
      <hardwareInterface>EffortJointInterface</hardwareInterface>
    </joint>
    <actuator name="leftShoulderRoll">
      <node name="/left_arm/j2"/>
      <mechanicalReduction>1</mechanicalReduction>
      <api name="robot_hardware_interface/TurbodriverAPI"/>
    </actuator>
  </transmission>
  <transmission name="leftShoulderYawTransmission">
    <type>transmission_interface/SimpleTransmission</type>
    <joint name="leftShoulderYaw">
      <hardwareInterface>EffortJointInterface</hardwareInterface>
    </joint>
    <actuator name="leftShoulderYaw">
      <node name="/left_arm/j3"/>
      <mechanicalReduction>1</mechanicalReduction>
      <api name="robot_hardware_interface/TurbodriverAPI"/>
    </actuator>
  </transmission>
  <transmission name="leftElbowPitchTransmission">
    <type>transmission_interface/SimpleTransmission</type>
    <joint name="leftElbowPitch">
      <hardwareInterface>EffortJointInterface</hardwareInterface>
    </joint>
    <actuator name="leftElbowPitch">
      <node name="/left_arm/j4"/>
      <mechanicalReduction>1</mechanicalReduction>
      <api name="robot_hardware_interface/TurbodriverAPI"/>
    </actuator>
  </transmission>
  <transmission name="rightShoulderPitchTransmission">
    <type>transmission_interface/SimpleTransmission</type>
    <joint name="rightShoulderPitch">
      <hardwareInterface>EffortJointInterface</hardwareInterface>
    </joint>
    <actuator name="rightShoulderPitch">
      <node name="/trunk/right_arm_j1"/>
      <mechanicalReduction>1</mechanicalReduction>
      <api name="robot_hardware_interface/TurbodriverAPI"/>
    </actuator>
  </transmission>
  <transmission name="rightShoulderRollTransmission">
    <type>transmission_interface/SimpleTransmission</type>
    <joint name="rightShoulderRoll">
      <hardwareInterface>EffortJointInterface</hardwareInterface>
    </joint>
    <actuator name="rightShoulderRoll">
      <node name="/right_arm/j2"/>
      <mechanicalReduction>1</mechanicalReduction>
      <api name="robot_hardware_interface/TurbodriverAPI"/>
    </actuator>
  </transmission>
  <transmission name="rightShoulderYawTransmission">
    <type>transmission_interface/SimpleTransmission</type>
    <joint name="rightShoulderYaw">
      <hardwareInterface>EffortJointInterface</hardwareInterface>
    </joint>
    <actuator name="rightShoulderYaw">
      <node name="/right_arm/j3"/>
      <mechanicalReduction>1</mechanicalReduction>
      <api name="robot_hardware_interface/TurbodriverAPI"/>
    </actuator>
  </transmission>
  <transmission name="rightElbowPitchTransmission">
    <type>transmission_interface/SimpleTransmission</type>
    <joint name="rightElbowPitch">
      <hardwareInterface>EffortJointInterface</hardwareInterface>
    </joint>
    <actuator name="rightElbowPitch">
      <node name="/right_arm/j4"/>
      <mechanicalReduction>1</mechanicalReduction>
      <api name="robot_hardware_interface/TurbodriverAPI"/>
    </actuator>
  </transmission>
  <transmission name="lowerNeckPitchTransmission">
    <type>transmission_interface/SimpleTransmission</type>
    <joint name="lowerNeckPitch">
      <hardwareInterface>PositionJointInterface</hardwareInterface>
    </joint>
    <actuator name="lowerNeckPitch">
      <node name="/neck/j1"/>
      <mechanicalReduction>1</mechanicalReduction>
      <api name="robot_hardware_interface/TurbodriverAPI"/>
    </actuator>
  </transmission>
  <transmission name="neckYawTransmission">
    <type>transmission_interface/SimpleTransmission</type>
    <joint name="neckYaw">
      <hardwareInterface>PositionJointInterface</hardwareInterface>
    </joint>
    <actuator name="neckYaw">
      <node name="/neck/j2"/>
      <mechanicalReduction>1</mechanicalReduction>
      <api name="robot_hardware_interface/TurbodriverAPI"/>
    </actuator>
  </transmission>
  <transmission name="upperNeckPitchTransmission">
    <type>transmission_interface/SimpleTransmission</type>
    <joint name="upperNeckPitch">
      <hardwareInterface>PositionJointInterface</hardwareInterface>
    </joint>
    <actuator name="upperNeckPitch">
      <node name="/neck/j3"/>
      <mechanicalReduction>1</mechanicalReduction>
      <api name="robot_hardware_interface/TurbodriverAPI"/>
    </actuator>
  </transmission>
</robot>
